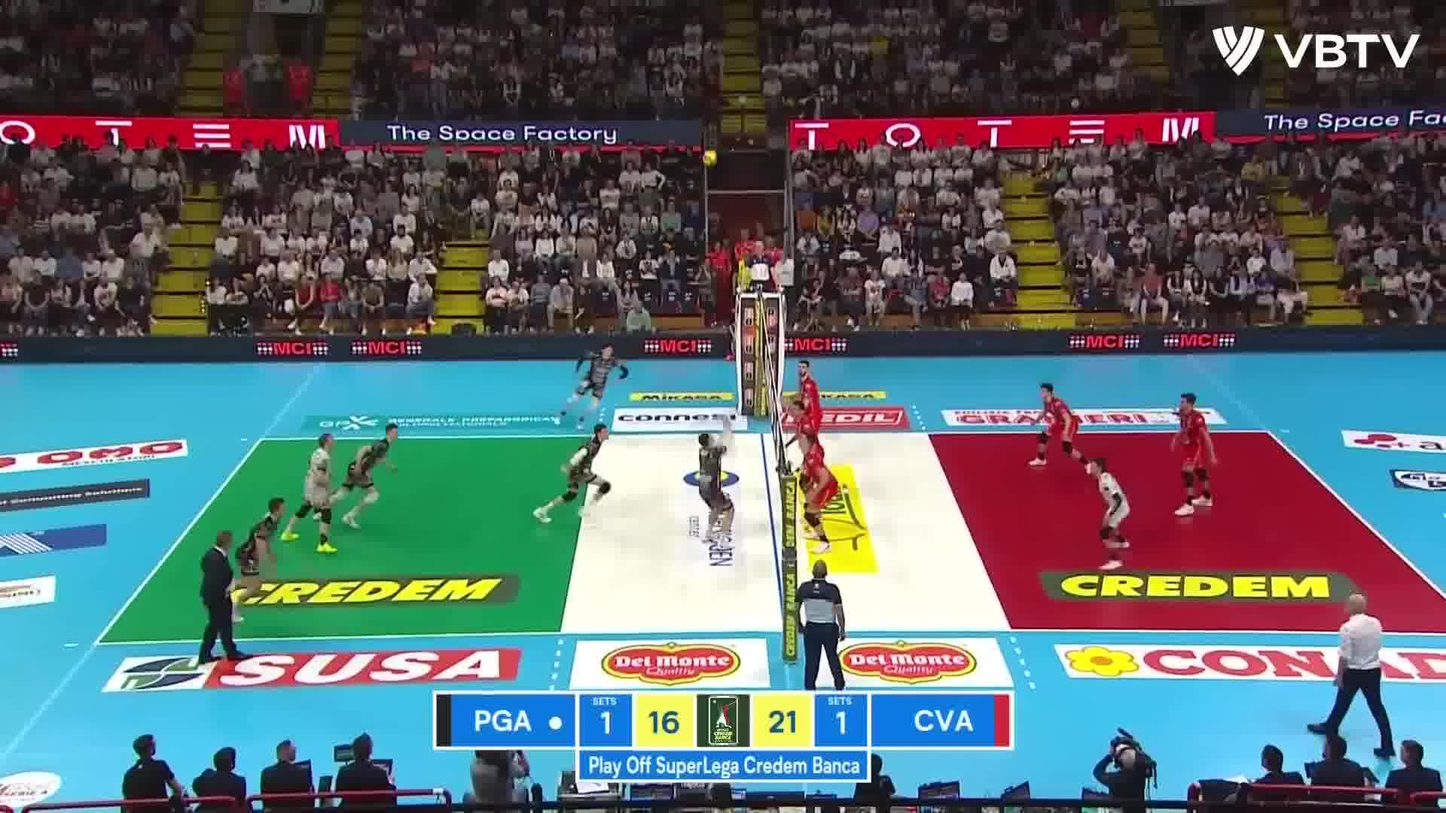balls: (699, 146, 723, 171)
